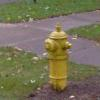Hydrant: (32, 21, 76, 90)
